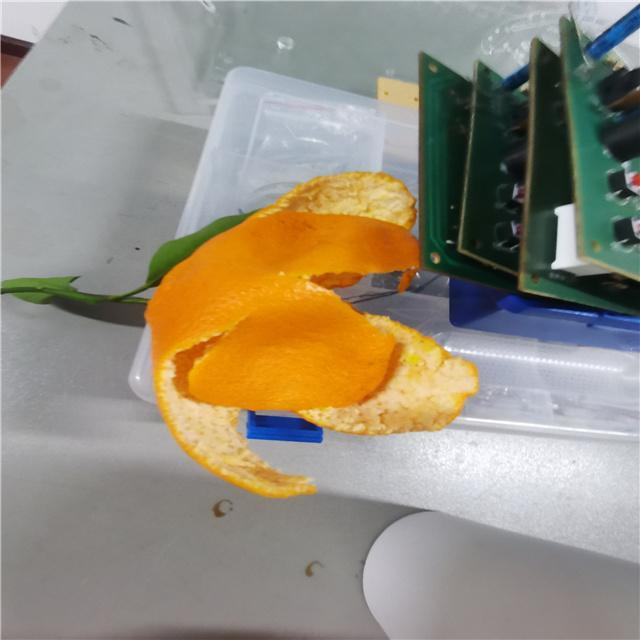orange-peel: (145, 170, 482, 496)
